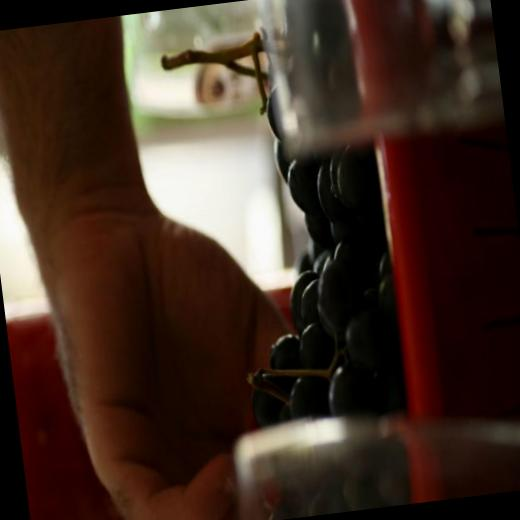Orange: (210, 74, 410, 428)
